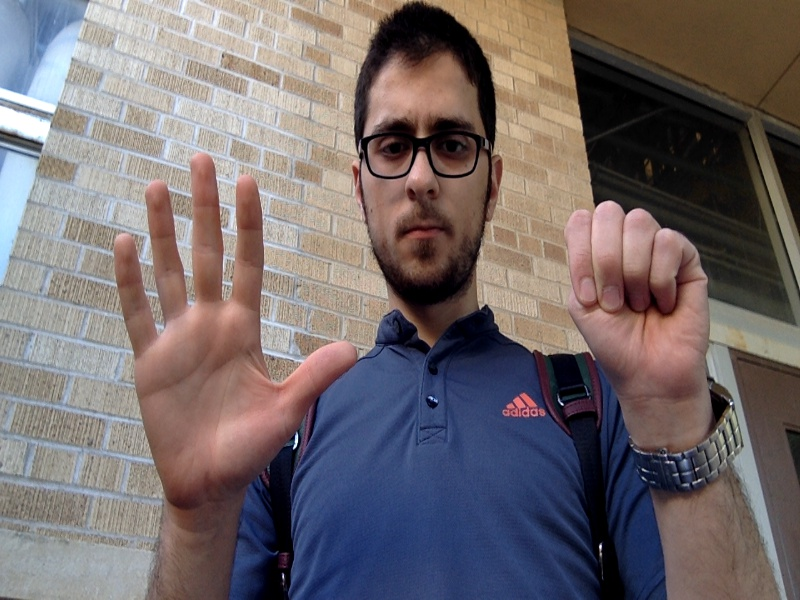0-hand: (567, 200, 708, 399)
5-hand: (114, 153, 357, 498)
